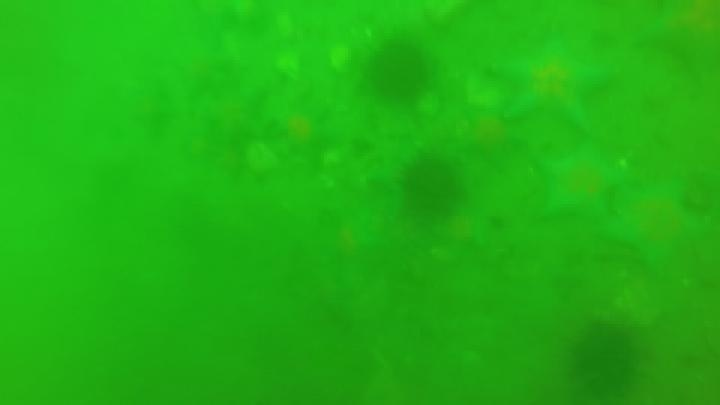echinus: (565, 320, 643, 399), (364, 38, 434, 105), (397, 154, 465, 222)
starfish: (489, 34, 616, 132), (600, 176, 708, 275), (534, 142, 628, 223), (635, 3, 718, 72), (197, 82, 273, 154), (458, 106, 524, 166), (269, 104, 336, 162), (127, 85, 177, 138)
